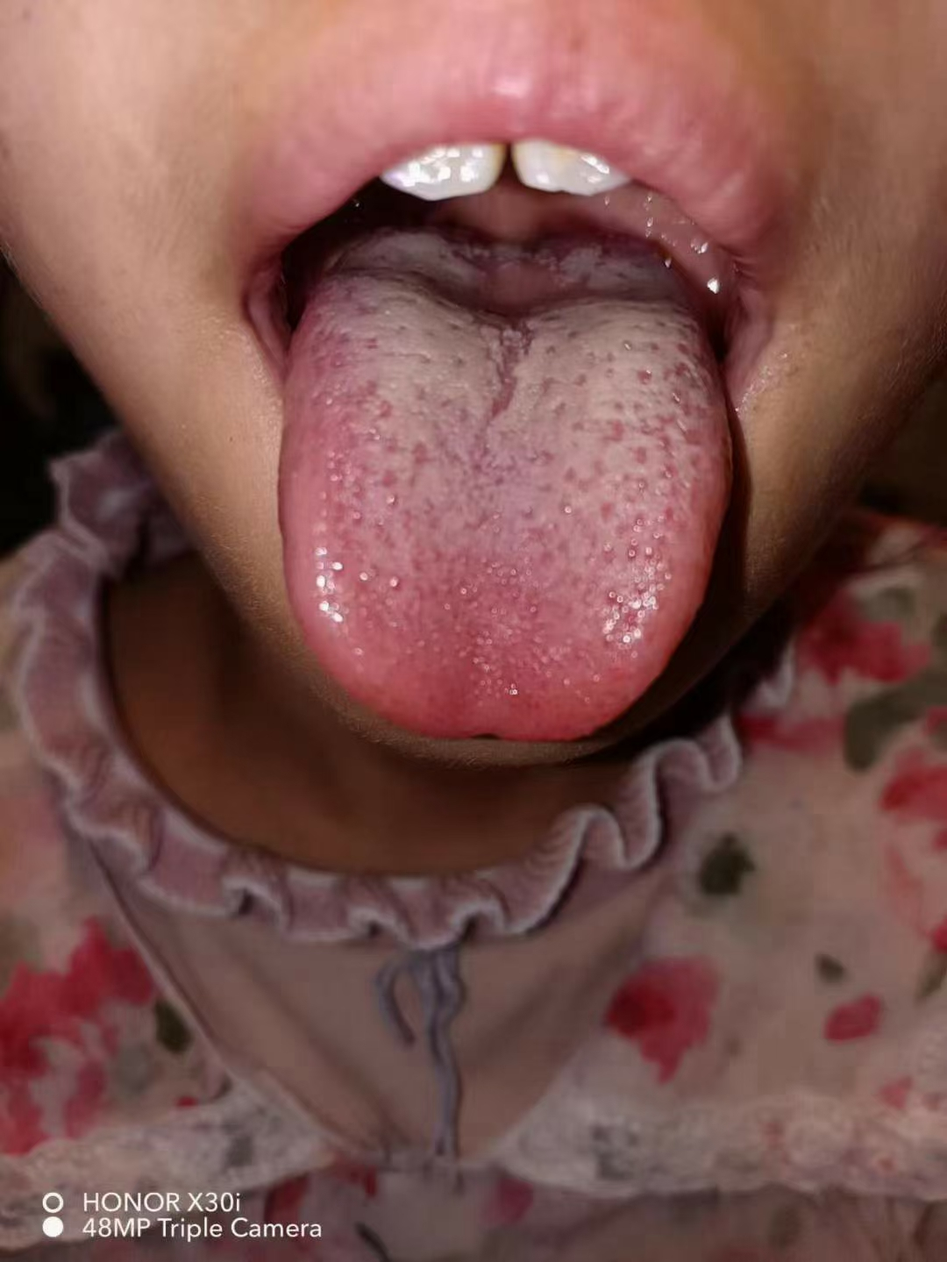baitaishe: (281, 230, 732, 740)
hongdianshe: (346, 418, 666, 622)
hongshe: (281, 230, 732, 740)
piweiao: (409, 252, 614, 346)
